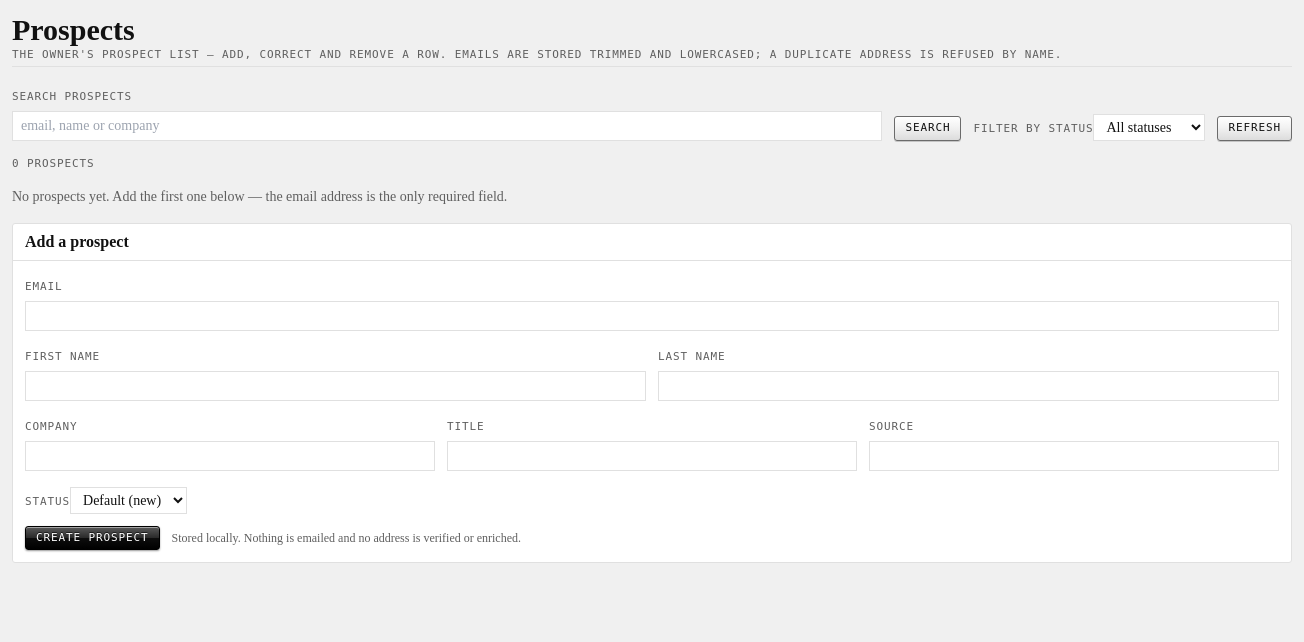
Test case: ProspectsPage — the add form › POSTs the draft and shows the SERVER's answer (normalised), not the typed value
Expected: the text with test id "prospects-empty" is shown, [12,188,507,204]
In the field labelled "Email": (652, 316) [25,300,1279,330], type "  Ada@Example.COM "
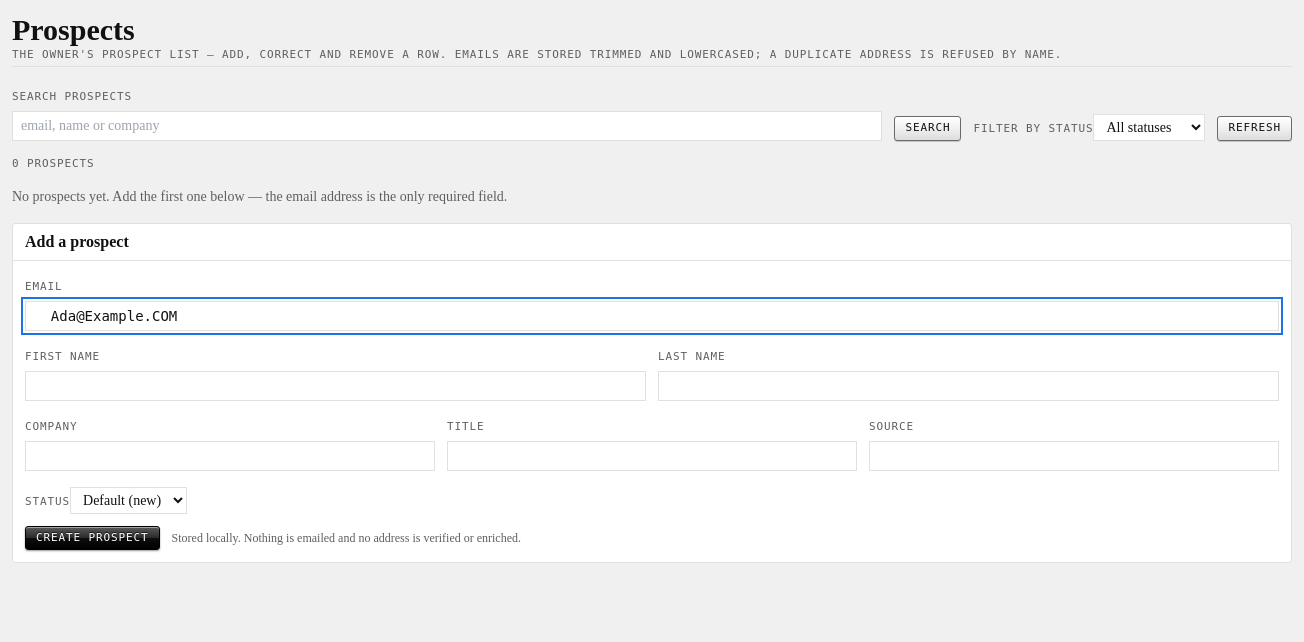
In the field labelled "First name": (336, 386) [25,370,646,400], type "Ada"
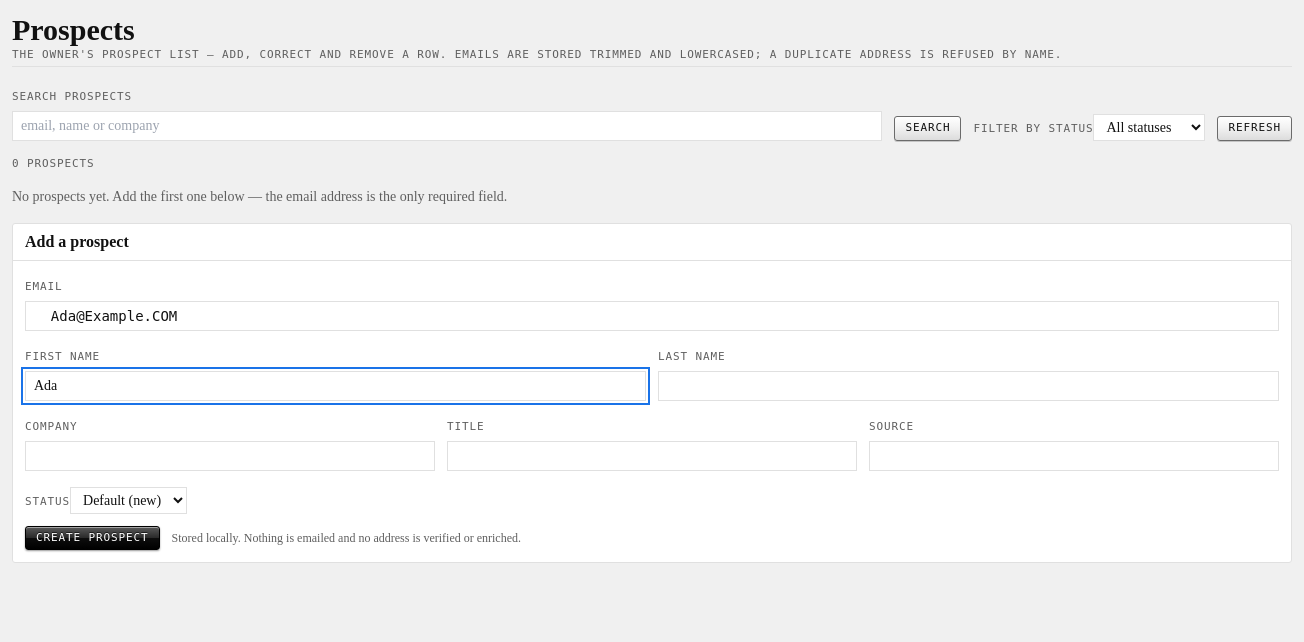
In the field labelled "Company": (230, 456) [25,440,435,470], type "Analytical Engines"
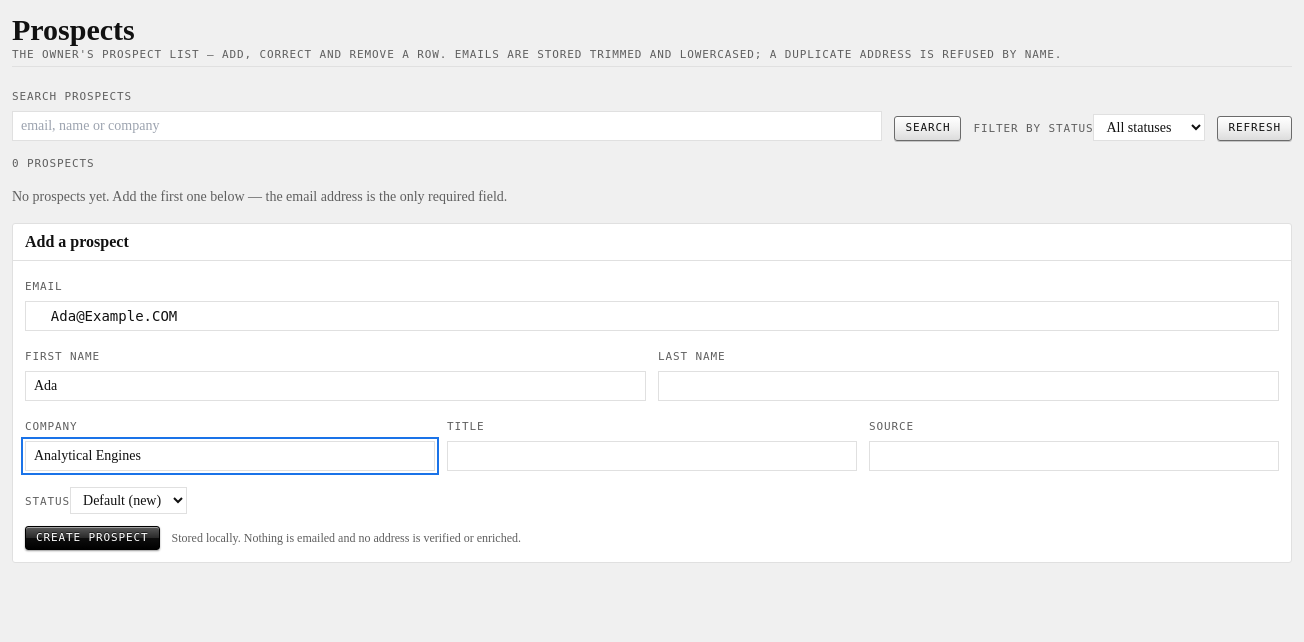
Click the button "Create prospect": (92, 538) [25,526,160,550]
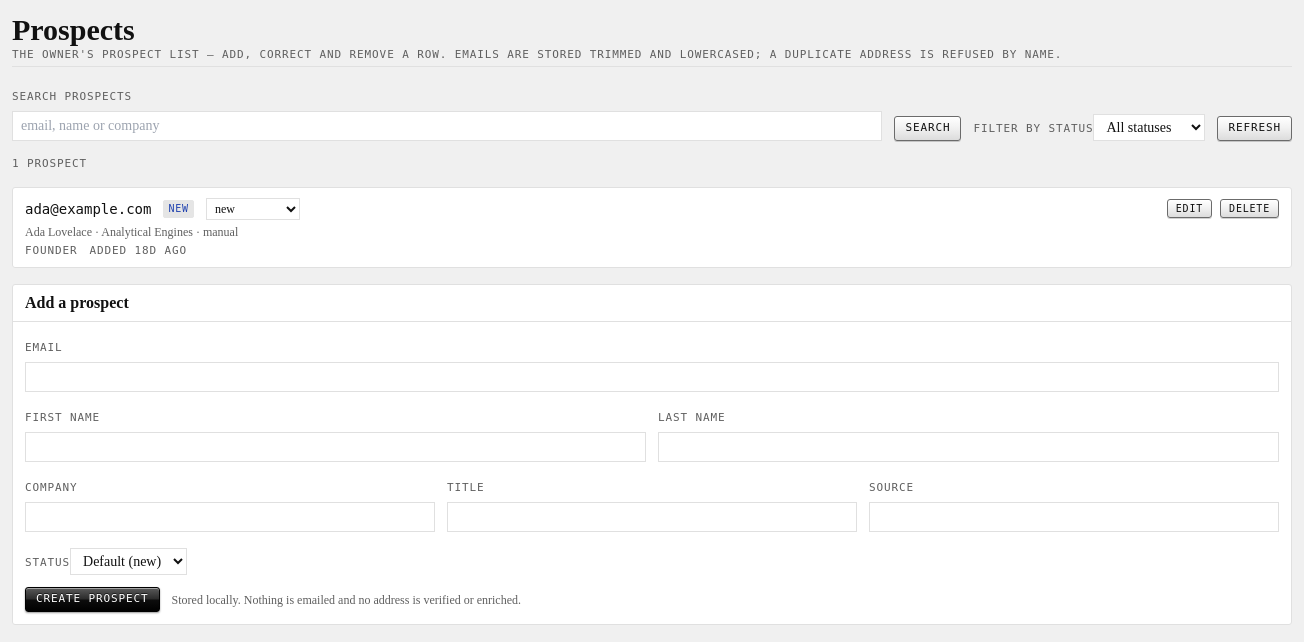
Expected: the text with test id "prospect-email" reads "ada@example.com", [25,200,151,216]
Expected: the field labelled "Email" is empty, [25,362,1279,392]
